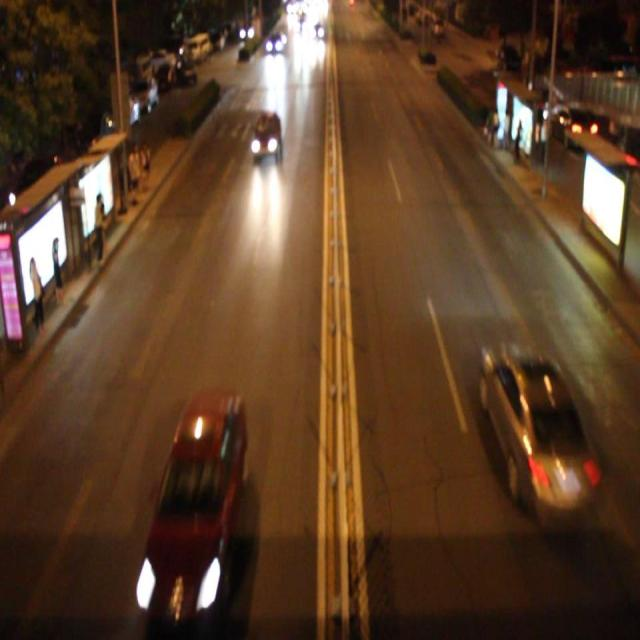car: (478, 344, 601, 521), (148, 390, 247, 600), (251, 111, 281, 160)
